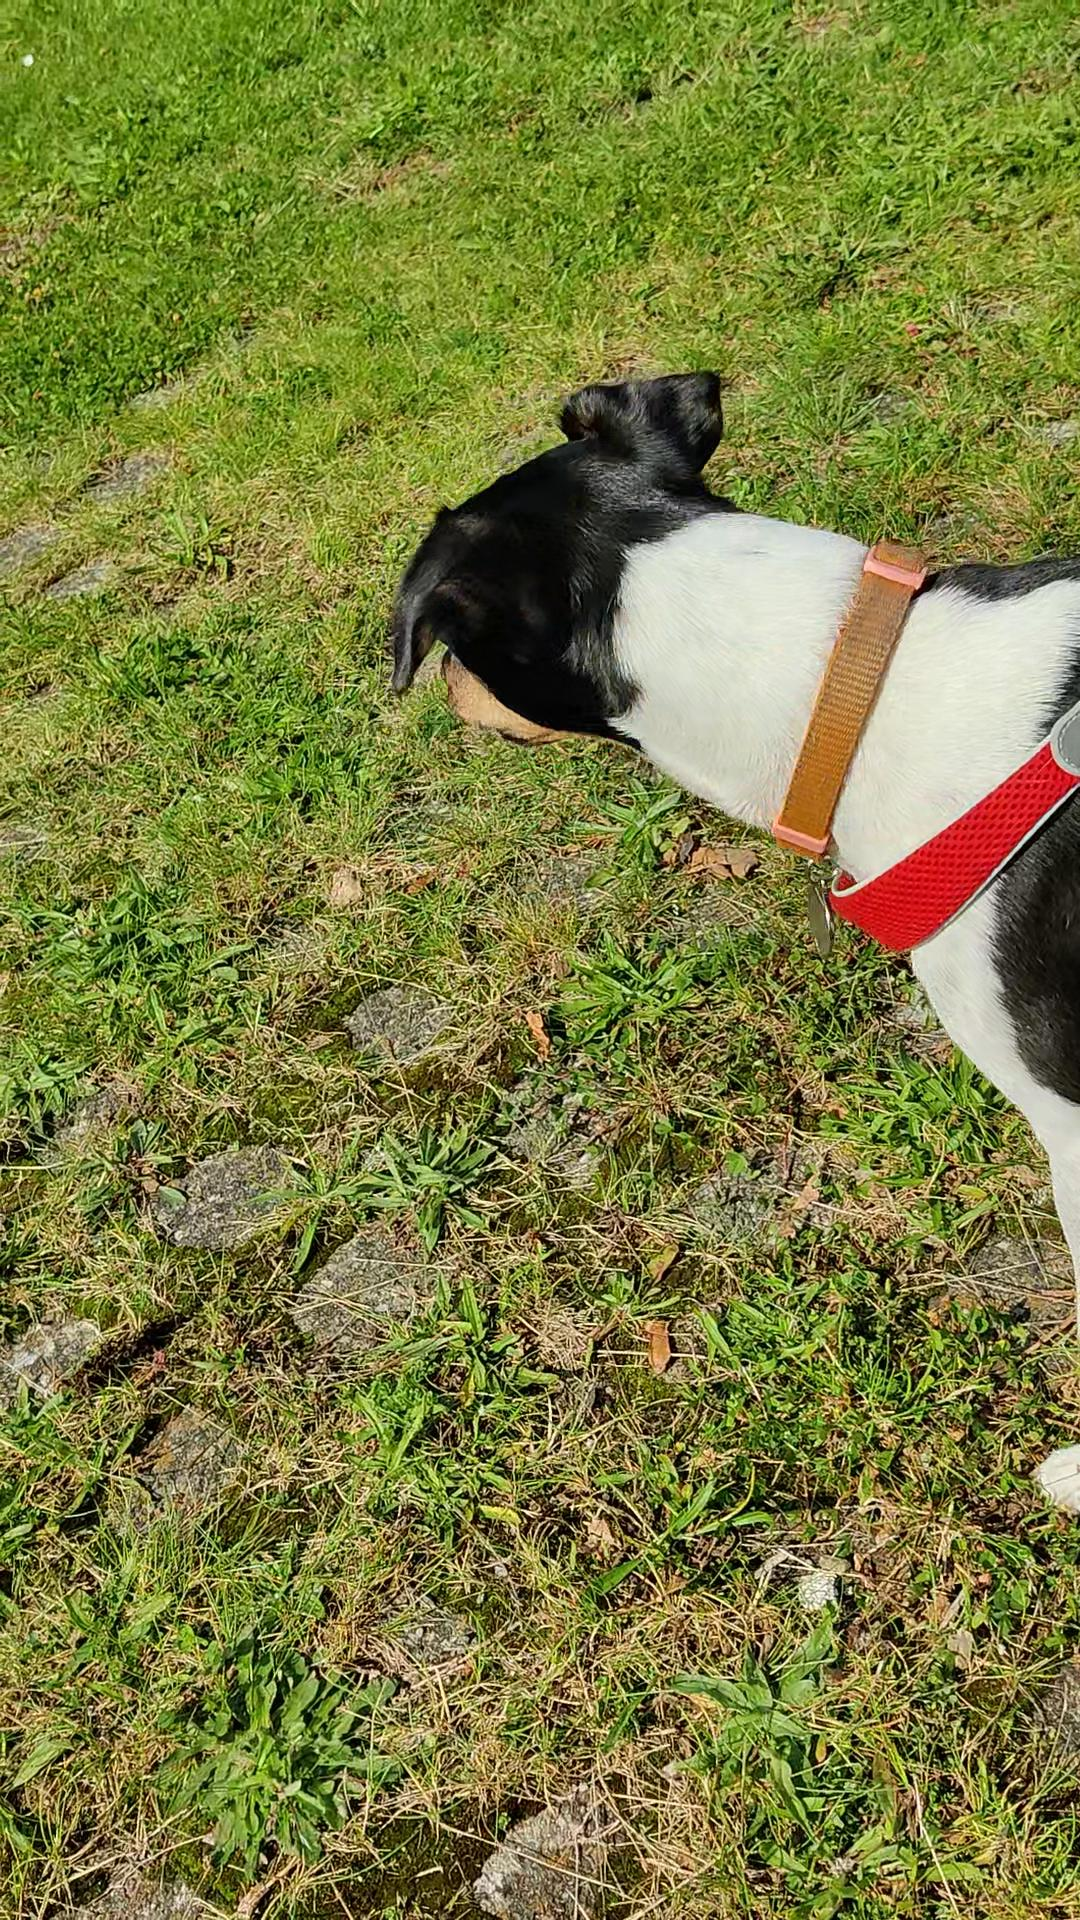Dog: (381, 353, 1079, 1535)
